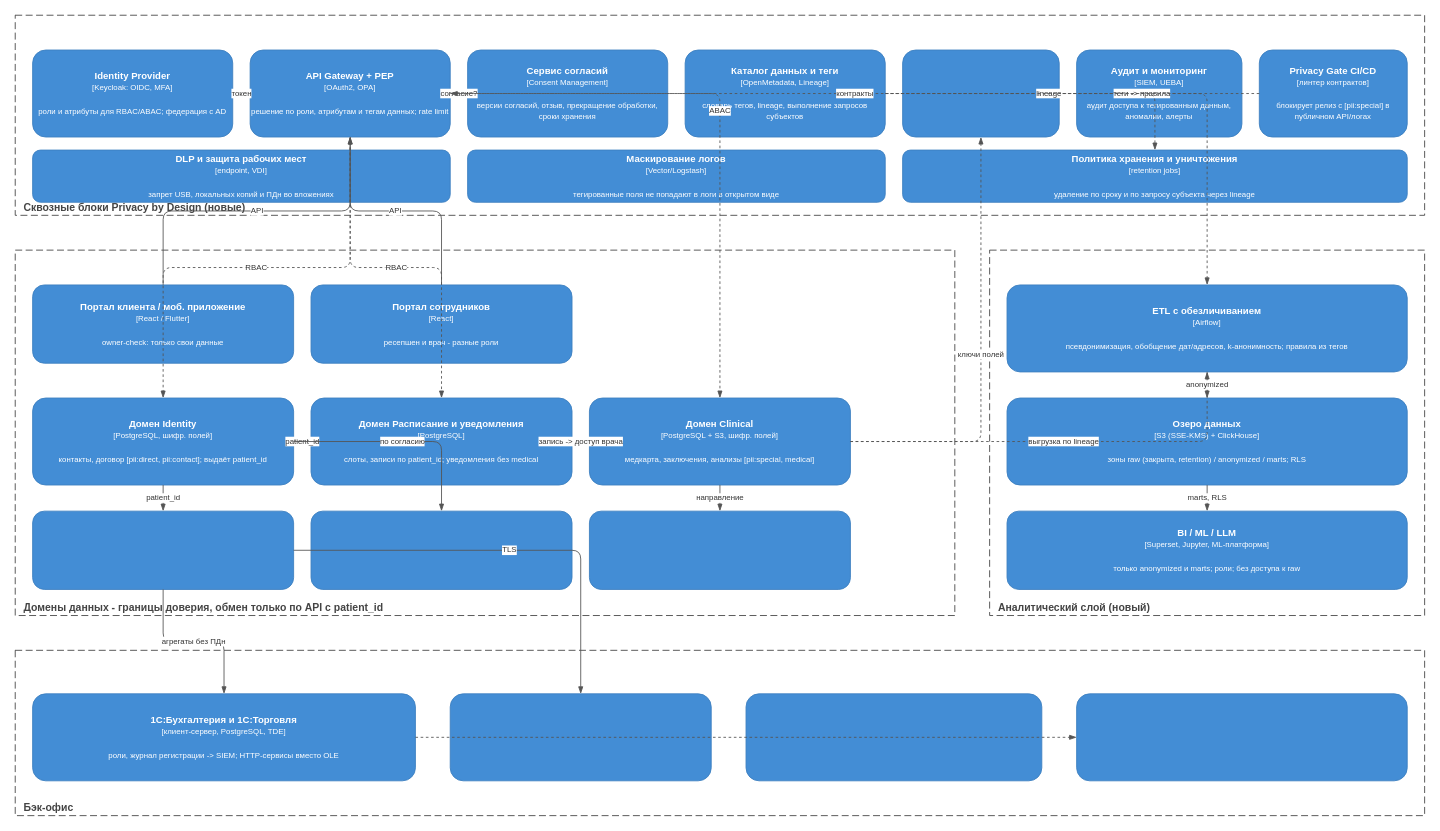
The diagram is 1440 pixels wide and 831 high, and some of its shapes have lost their labels. Here are the shapes that lost their labels. From the top down, the centre of each, then its label:
At (x=980, y=93): "KMS + Vault [ключи, секреты] шифрование полей, envelope, ротация".
At (x=163, y=549): "Домен Billing [PostgreSQL] счета, токены платежей [financial]".
At (x=441, y=549): "CRM [PostgreSQL] обращения, маркетинг по согласию; без medical".
At (x=719, y=549): "Lab Integration [адаптер, mTLS] lab_pseudonym вместо Ф. И. О.".
At (x=580, y=737): "ККМ + ОФД [TLS] подписанные фискальные документы".
At (x=893, y=737): "AD / почта / файлы [отдельные VLAN и хосты] без медицинских данных; DLP".
At (x=1241, y=737): "Резервные копии [шифрование, в РФ] ключи в KMS, тест восстановления".
